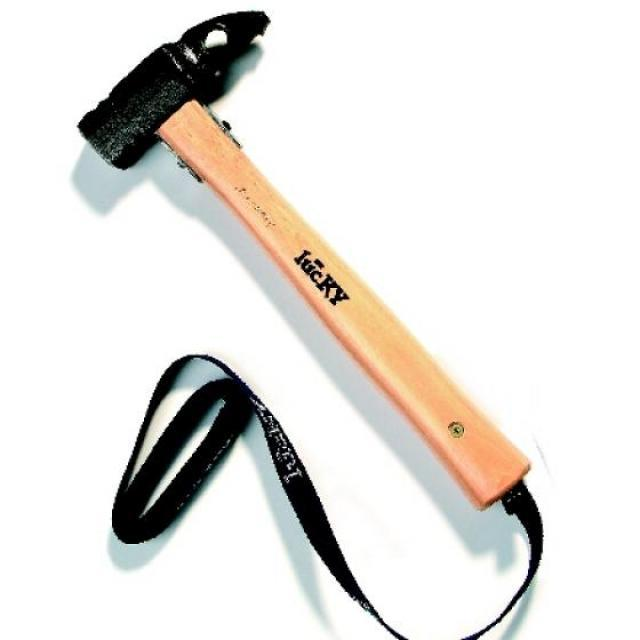hammer: (70, 6, 538, 503)
